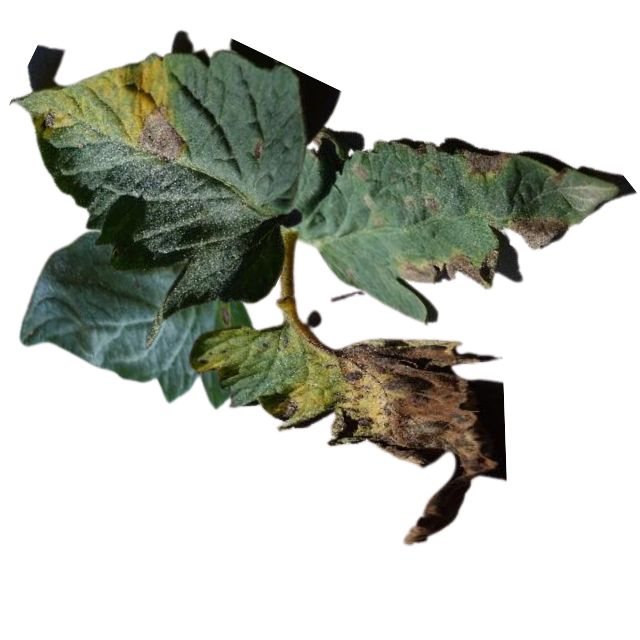Early_blight: (335, 339, 498, 546), (386, 248, 500, 290), (140, 97, 187, 163), (507, 214, 568, 252), (459, 150, 510, 180), (268, 391, 298, 422), (37, 105, 59, 131), (549, 170, 570, 188), (424, 195, 444, 213), (219, 305, 230, 322)
